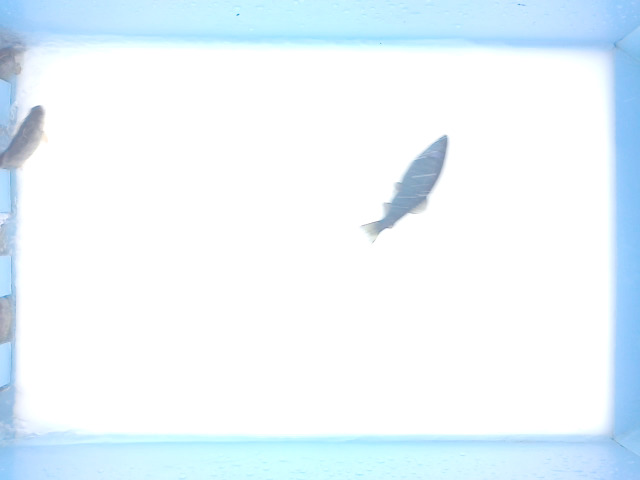fish: (358, 131, 452, 246)
